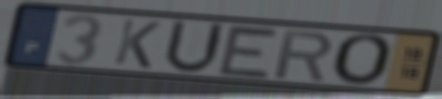3: (53, 11, 108, 70)
E: (215, 22, 283, 81)
K: (110, 17, 164, 71)
O: (330, 32, 397, 89)
R: (271, 27, 336, 83)
U: (160, 17, 228, 76)
